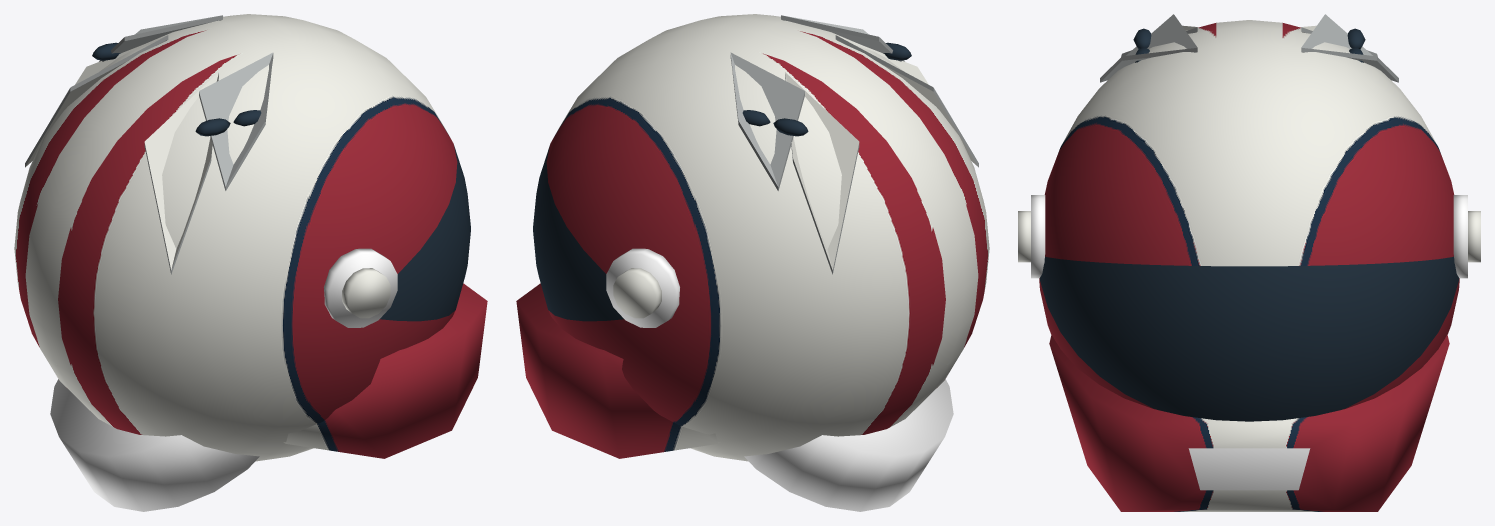
The model's file is Helmet_21_SR_漆朱・白抜き.glb.
3 views of the same model, side by side, from view 1: azimuth 30°, elevation 25°; view 2: azimuth 150°, elevation 25°; view 3: azimuth 270°, elevation 25° (orthographic). The views are drawn at different scales.
Visible parts, largest first — view 1: Helmet_21_SR, Visor; view 2: Helmet_21_SR, Visor; view 3: Helmet_21_SR, Visor.
Boxes of the visible parts, left/top/right/bottom form: Helmet_21_SR: left=14, top=14, right=487, bottom=511; Visor: left=92, top=42, right=470, bottom=321; Helmet_21_SR: left=516, top=14, right=989, bottom=511; Visor: left=533, top=42, right=911, bottom=321; Helmet_21_SR: left=1018, top=14, right=1480, bottom=511; Visor: left=1039, top=28, right=1459, bottom=421.
Size of the model in its own units: 0.301 by 0.305 by 0.289.
4 materials, 4 textured.
